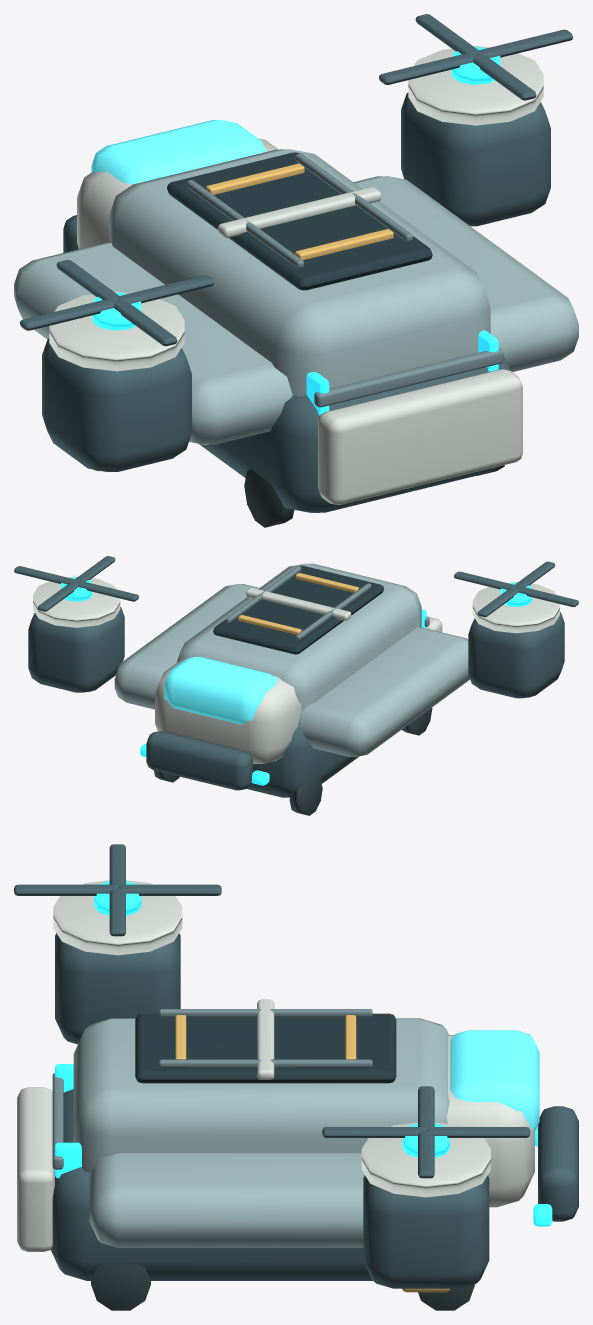
The model's file is dropship.glb.
3 views of the same model, one above another, from view 1: azimuth 30°, elevation 25°; view 2: azimuth 150°, elevation 25°; view 3: azimuth 270°, elevation 25° (orthographic). The views are drawn at different scales.
Visible parts, largest first — view 1: Armored cargo cabin, Cargo keel, Cargo door upper rail, Recessed cargo bay door, Panoramic cockpit glass, Cargo door locking bar, Faction rescue stripe, Cargo tie-down, Landing wheel, Dropship lift fan blade.002, Dropship lift fan blade.006, Dropship lift fan blade (+5 smaller); view 2: Armored cargo cabin, Cargo keel, Cargo door upper rail, Recessed cargo bay door, Panoramic cockpit glass, Landing wheel, Cargo door locking bar, Faction rescue stripe, Cargo tie-down, Dropship lift fan blade.006, Dropship lift fan blade.002, Dropship lift fan blade (+5 smaller); view 3: Armored cargo cabin, Cargo keel, Cargo door upper rail, Recessed cargo bay door, Panoramic cockpit glass, Cargo door locking bar, Landing wheel, Faction rescue stripe, Cargo tie-down, Dropship lift fan blade.001, Dropship lift fan blade.003, Dropship lift fan blade.005 (+5 smaller).
Part boxes in pixels (left/top/right/bottom): Armored cargo cabin: left=14, top=149, right=578, bottom=444; Cargo keel: left=42, top=92, right=550, bottom=512; Cargo door upper rail: left=49, top=46, right=543, bottom=504; Recessed cargo bay door: left=167, top=152, right=432, bottom=290; Panoramic cockpit glass: left=91, top=120, right=266, bottom=184; Cargo door locking bar: left=186, top=153, right=503, bottom=407; Faction rescue stripe: left=92, top=47, right=500, bottom=415; Cargo tie-down: left=93, top=163, right=393, bottom=471; Landing wheel: left=244, top=465, right=504, bottom=527; Dropship lift fan blade.002: left=20, top=298, right=115, bottom=330; Dropship lift fan blade.006: left=379, top=53, right=475, bottom=84; Dropship lift fan blade: left=117, top=275, right=213, bottom=303; Armored cargo cabin: left=114, top=563, right=469, bottom=756; Cargo keel: left=28, top=607, right=564, bottom=797; Cargo door upper rail: left=33, top=576, right=559, bottom=763; Recessed cargo bay door: left=213, top=565, right=383, bottom=654; Panoramic cockpit glass: left=164, top=657, right=276, bottom=724; Landing wheel: left=154, top=708, right=432, bottom=815; Cargo door locking bar: left=225, top=566, right=429, bottom=640; Faction rescue stripe: left=61, top=577, right=531, bottom=785; Cargo tie-down: left=88, top=573, right=531, bottom=697; Dropship lift fan blade.006: left=77, top=581, right=138, bottom=601; Dropship lift fan blade.002: left=517, top=586, right=578, bottom=607; Dropship lift fan blade: left=454, top=571, right=516, bottom=589; Armored cargo cabin: left=73, top=1018, right=449, bottom=1247; Cargo keel: left=51, top=933, right=578, bottom=1288; Cargo door upper rail: left=17, top=880, right=534, bottom=1251; Recessed cargo bay door: left=135, top=1013, right=396, bottom=1083; Panoramic cockpit glass: left=450, top=1030, right=539, bottom=1130; Cargo door locking bar: left=52, top=1009, right=372, bottom=1169; Landing wheel: left=91, top=1264, right=474, bottom=1310; Faction rescue stripe: left=55, top=881, right=552, bottom=1226; Cargo tie-down: left=175, top=1015, right=450, bottom=1292; Dropship lift fan blade.001: left=119, top=884, right=221, bottom=895; Dropship lift fan blade.003: left=14, top=884, right=116, bottom=895; Dropship lift fan blade.005: left=427, top=1127, right=530, bottom=1137.
Bounding box in the file's own units: 2.48 × 0.8729 × 1.8.
